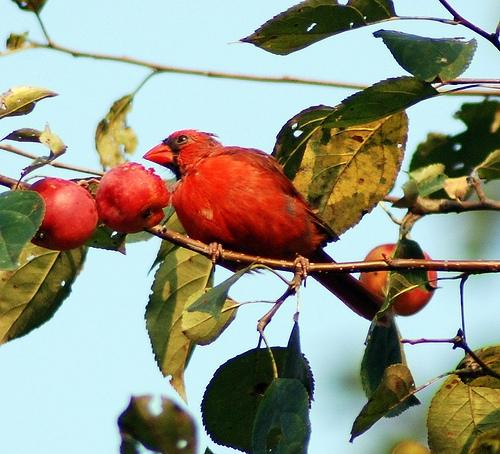apple: (361, 243, 438, 317), (95, 162, 173, 234), (28, 176, 99, 252)
